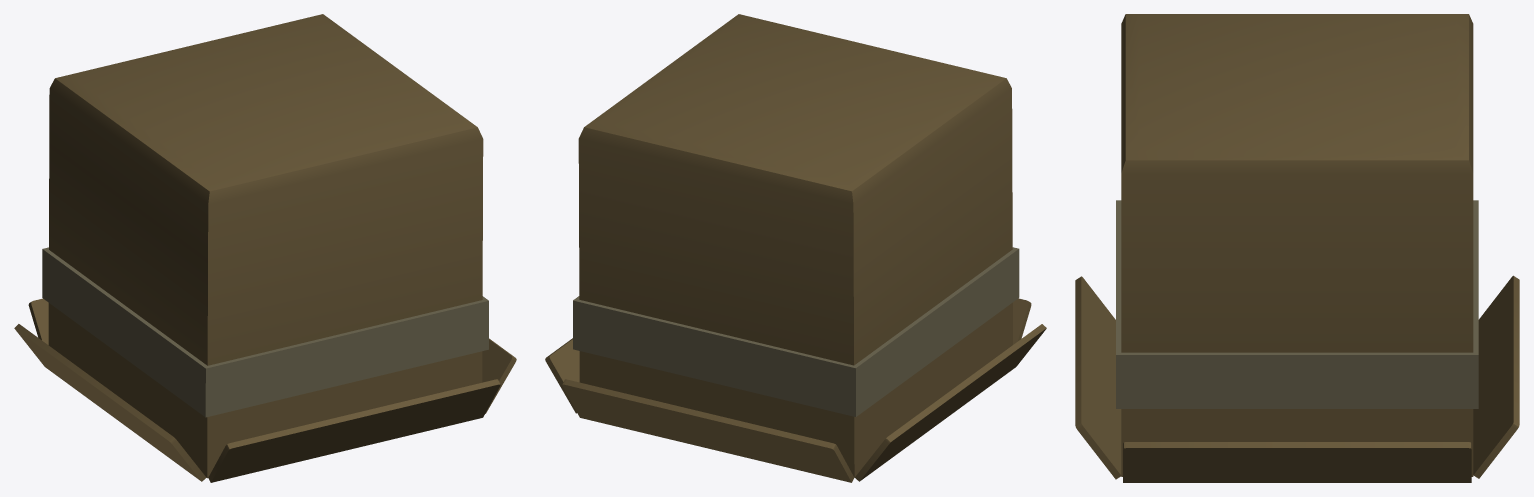
The model's file is L_Winning_ISD1_BoxUpsideDown.fbx.
3 views of the same model, side by side, from view 1: azimuth 30°, elevation 25°; view 2: azimuth 150°, elevation 25°; view 3: azimuth 270°, elevation 25° (orthographic). The views are drawn at different scales.
Visible parts, largest first — view 1: box base, box flap 3, box flap 4, box flap 1, box flap 2; view 2: box base, box flap 2, box flap 4, box flap 1, box flap 3; view 3: box base, box flap 1, box flap 2, box flap 3.
Boxes of the visible parts, x1,y1,x2,y2 form: box base: [42, 14, 488, 478]; box flap 3: [208, 379, 500, 482]; box flap 4: [14, 324, 205, 481]; box flap 1: [482, 338, 516, 413]; box flap 2: [28, 298, 48, 344]; box base: [573, 14, 1019, 477]; box flap 2: [562, 379, 854, 482]; box flap 4: [855, 324, 1046, 481]; box flap 1: [545, 338, 579, 413]; box flap 3: [1013, 298, 1031, 344]; box base: [1116, 14, 1478, 476]; box flap 1: [1123, 442, 1471, 482]; box flap 2: [1473, 275, 1519, 478]; box flap 3: [1075, 276, 1121, 479].
Size of the model in its own units: 252 by 203 by 252.
